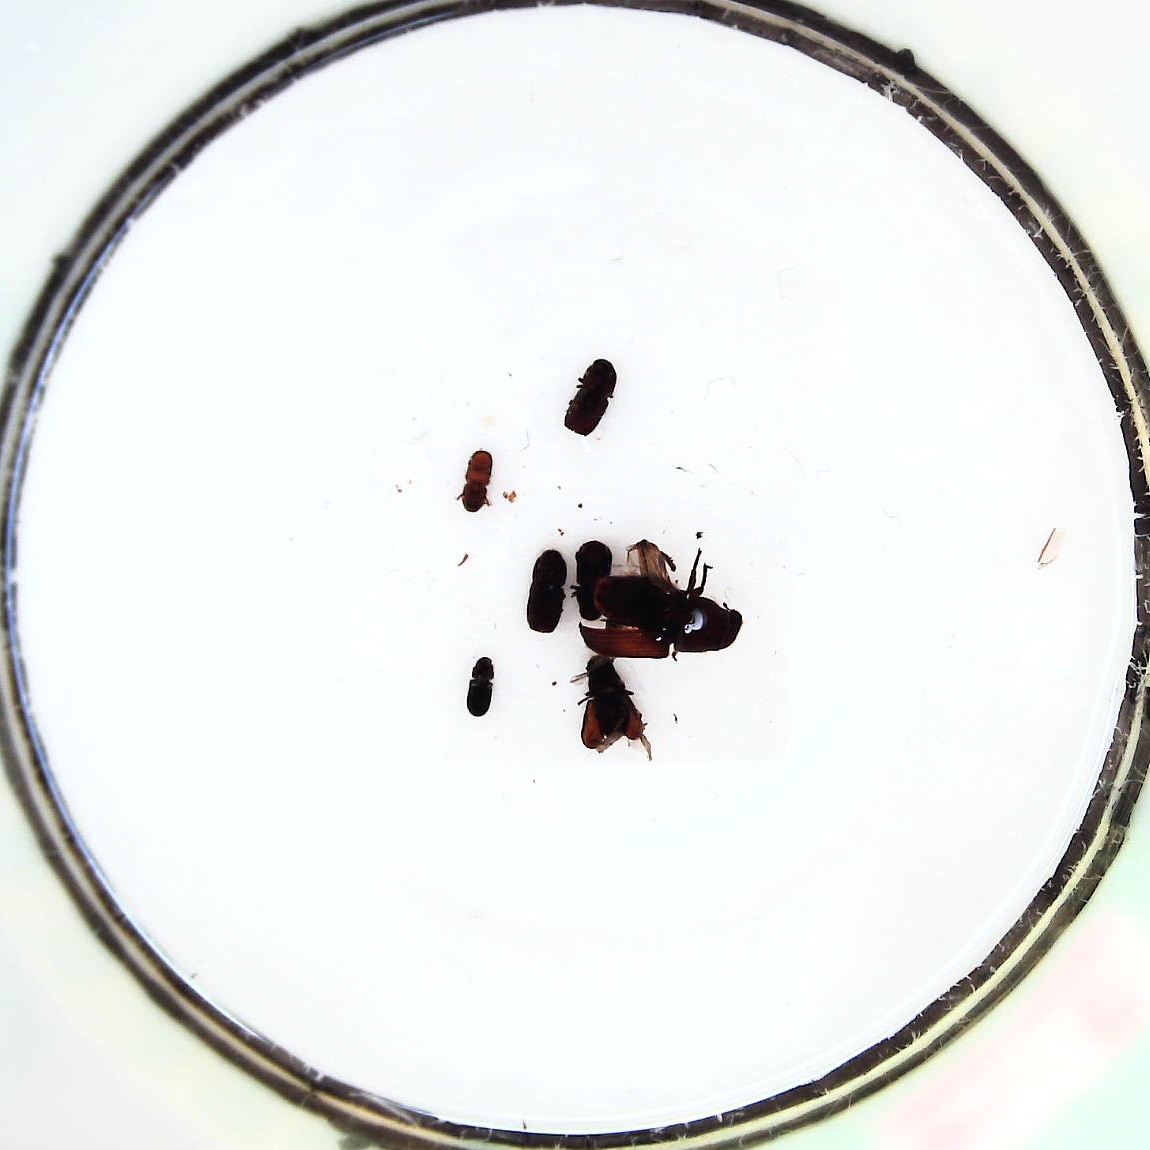Leconte: (593, 540, 741, 654), (569, 654, 651, 758)
Linnaeus: (560, 355, 618, 439), (526, 546, 568, 635)
acuminatus: (457, 445, 494, 515)
armandi: (573, 539, 613, 620)
coleoptera: (461, 655, 496, 721)
